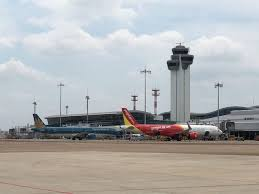maybay_dansu: (124, 111, 227, 143), (30, 114, 127, 146)
